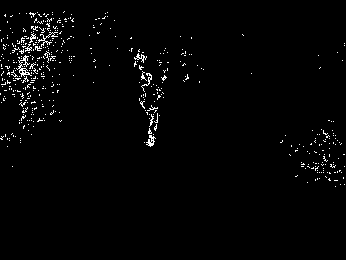person: (136, 70, 167, 150)
